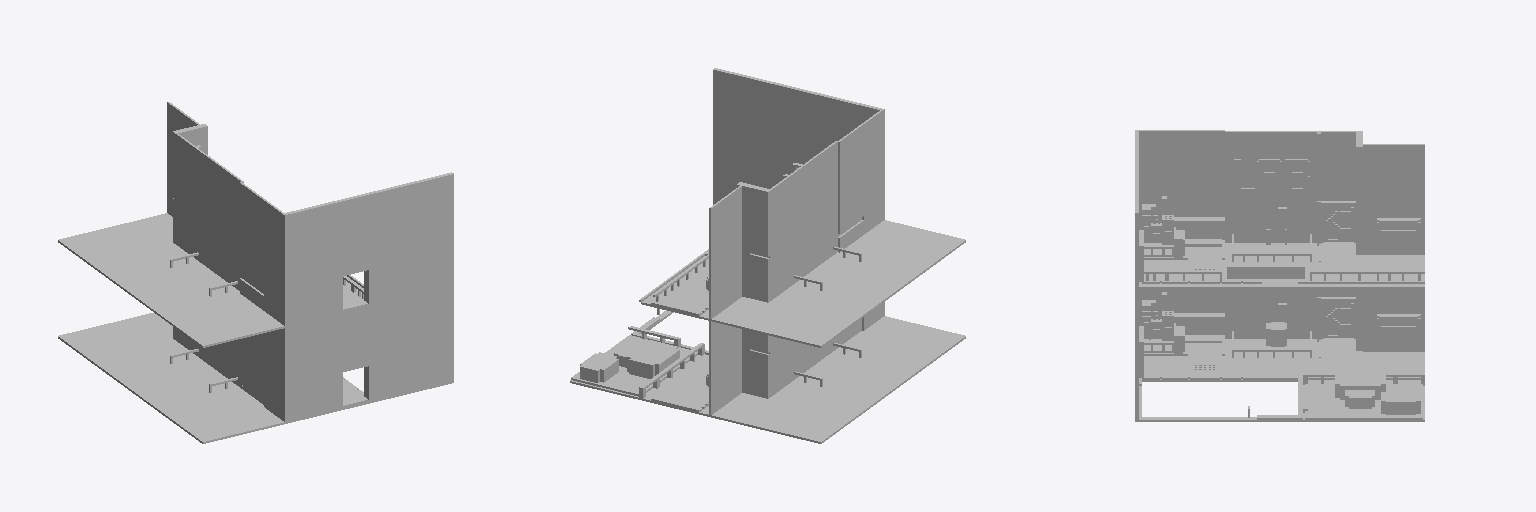
File: Sci-Fi Level 5.obj
3 renders of one model, left to right at view 1: azimuth 30°, elevation 25°; view 2: azimuth 150°, elevation 25°; view 3: azimuth 270°, elevation 25°, orthographic.
Parts seen in each view (by area): view 1: object 1; view 2: object 1; view 3: object 1.
Boxes of the visible parts, x1,y1,x2,y2 form: object 1: [58, 102, 453, 443]; object 1: [570, 68, 965, 443]; object 1: [1135, 130, 1424, 421].
Size of the model in its own units: 12.6 by 10 by 12.6.